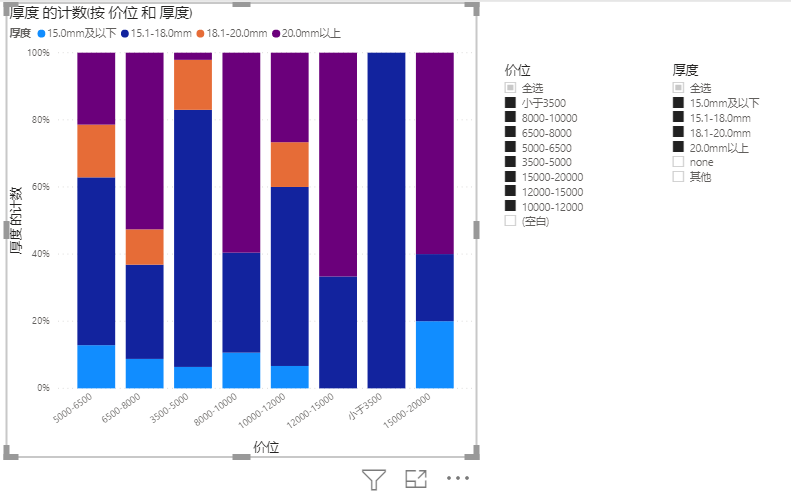

The dashboard page shown, as its layout file describes it:
{"tool":"powerbi","page":{"name":"第 2 页","canvas":[1280,720],"ordinal":1},"visuals":[{"type":"hundredPercentStackedColumnChart","fields":{"Category":["Sheet1.价位"],"Y":["CountNonNull(Sheet1.厚度)"],"Series":["Sheet1.厚度"]},"box":[9.5,0,596.4,575.6],"z":0},{"type":"slicer","fields":{"Values":["Sheet1.价位"]},"box":[627.4,70.2,132.5,138.9],"z":1000},{"type":"slicer","fields":{"Values":["Sheet1.厚度"]},"box":[759.9,70.2,97.4,138.9],"z":2000},{"type":"hundredPercentStackedBarChart","fields":{"Category":["Sheet1.价位"],"Series":["Sheet1.品牌"],"Y":["CountNonNull(Sheet1.品牌)"]},"box":[626.7,337,560.5,369.2],"z":2001}]}

Visuals, with their boxes on the page's 1280x720 design canvas (x1, y1, x2, y2). These are canvas units, not pixel positions in the 791x503 screenshot, which may show the page scaled, cropped or inside an application window:
hundredPercentStackedColumnChart - Sheet1.价位 x CountNonNull(Sheet1.厚度): 10:0:606:576
slicer - Sheet1.价位: 627:70:760:209
slicer - Sheet1.厚度: 760:70:857:209
hundredPercentStackedBarChart - Sheet1.价位 x Sheet1.品牌: 627:337:1187:706
